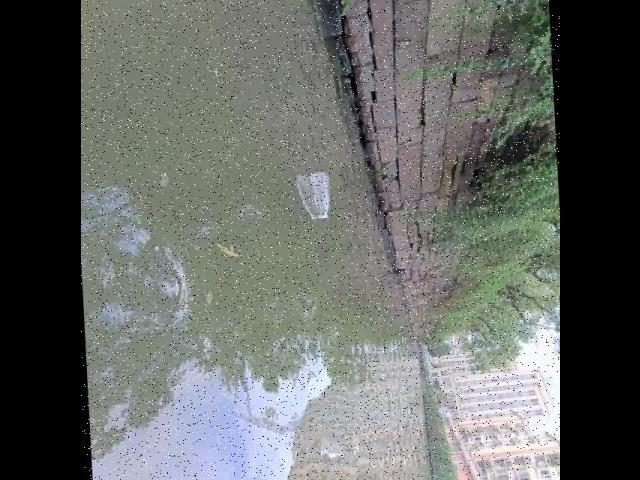Bottle: (304, 166, 334, 226)
